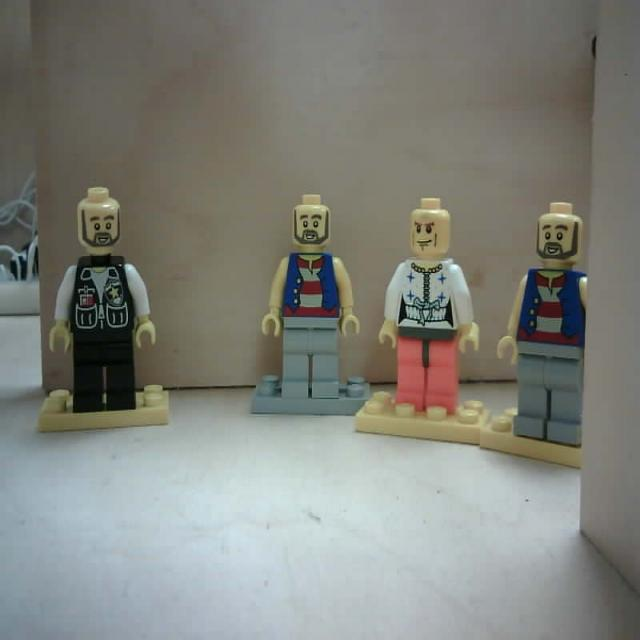Lego-People: (348, 187, 501, 450), (31, 185, 172, 436), (488, 177, 591, 479), (246, 194, 373, 420)
